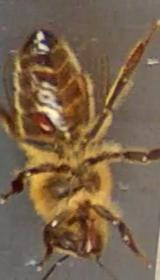varroa_mite: (26, 102, 65, 138)
